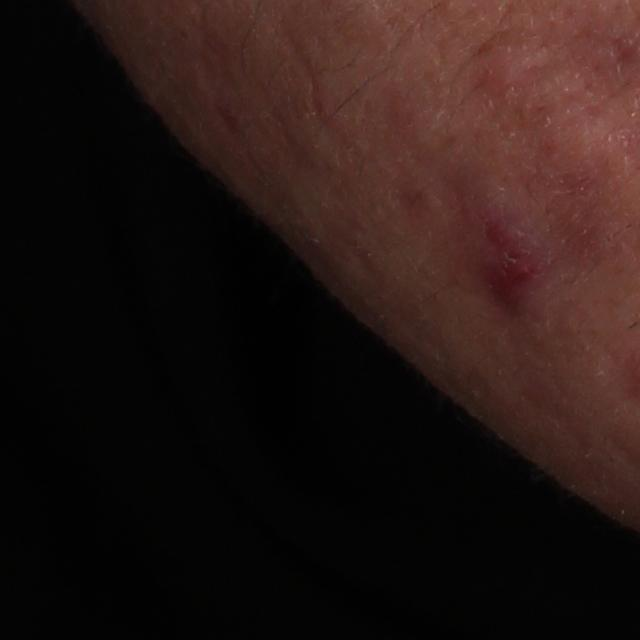papule: (468, 42, 537, 105)
